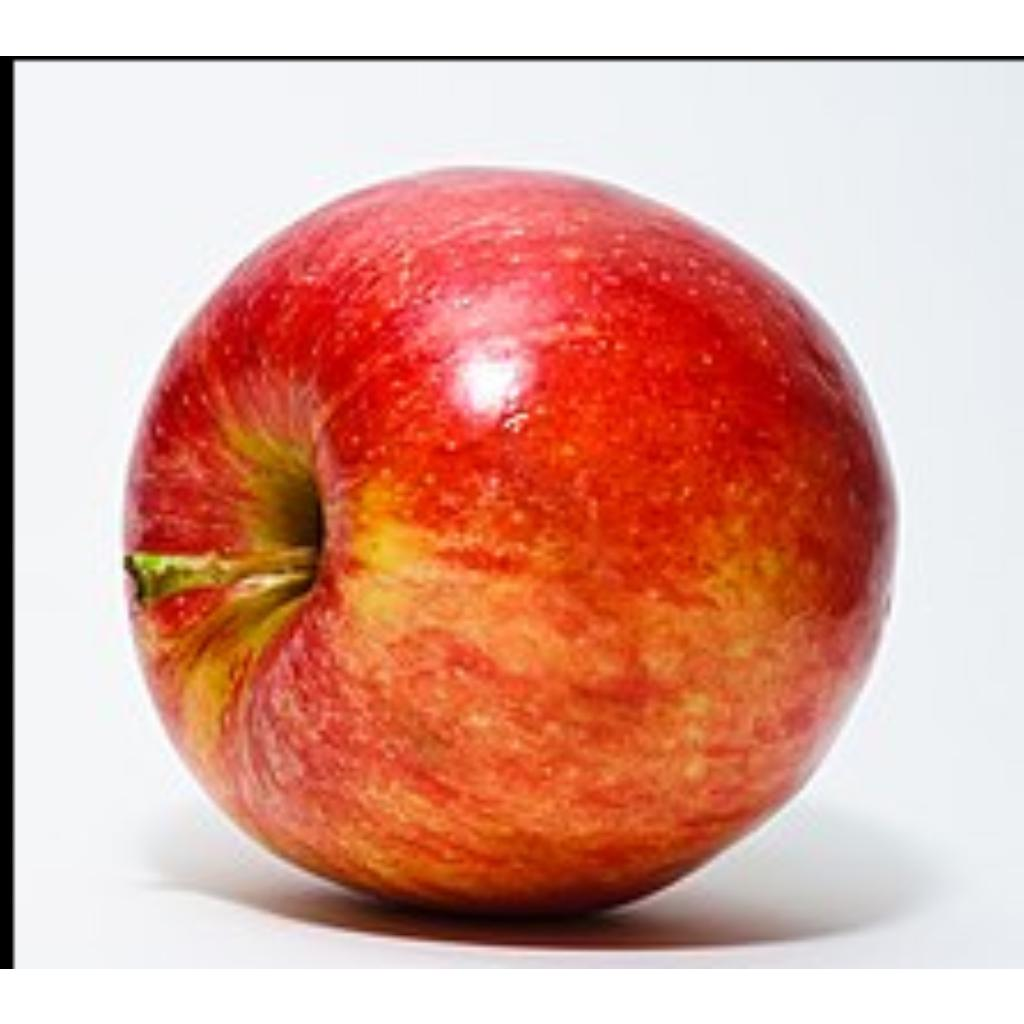apple: (122, 169, 895, 924)
